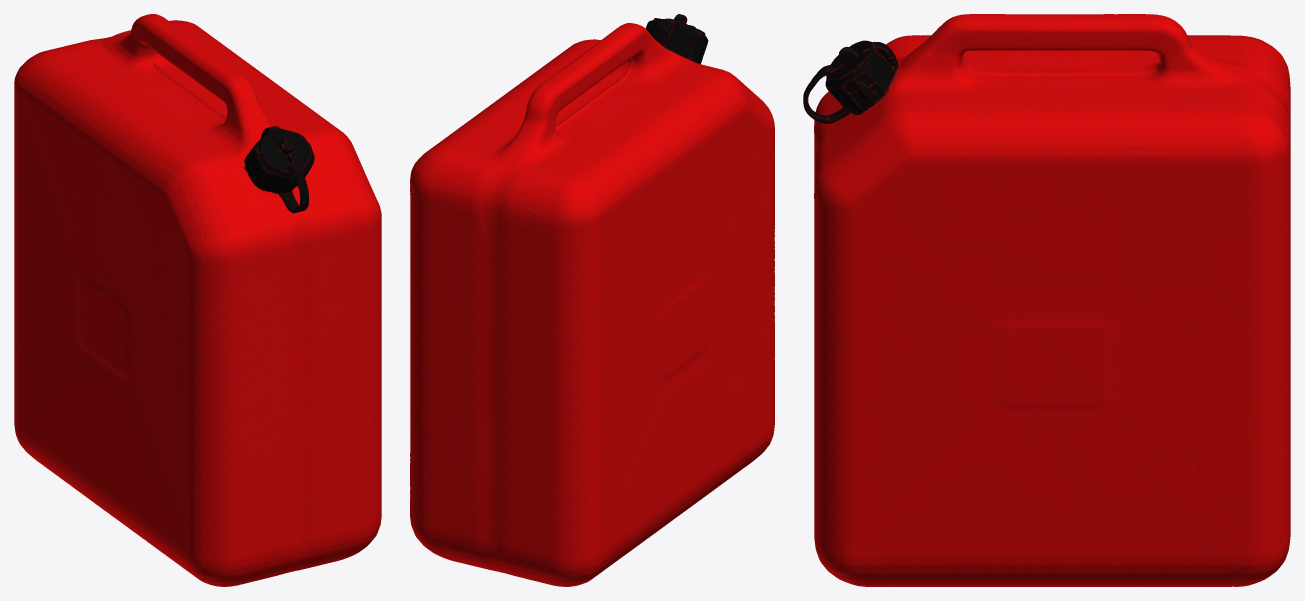
File: gas_can.glb
3 renders of one model, left to right at view 1: azimuth 30°, elevation 25°; view 2: azimuth 150°, elevation 25°; view 3: azimuth 270°, elevation 25°, orthographic. The views are drawn at different scales.
Parts seen in each view (by area): view 1: world; view 2: world; view 3: world.
Boxes of the visible parts, <box> form: world: <box>14,14,381,586</box>; world: <box>410,14,774,586</box>; world: <box>803,14,1290,586</box>.
Bounding box in the file's own units: 0.429 × 1 × 0.8287.
Materials: 1 (1 with a texture image).
